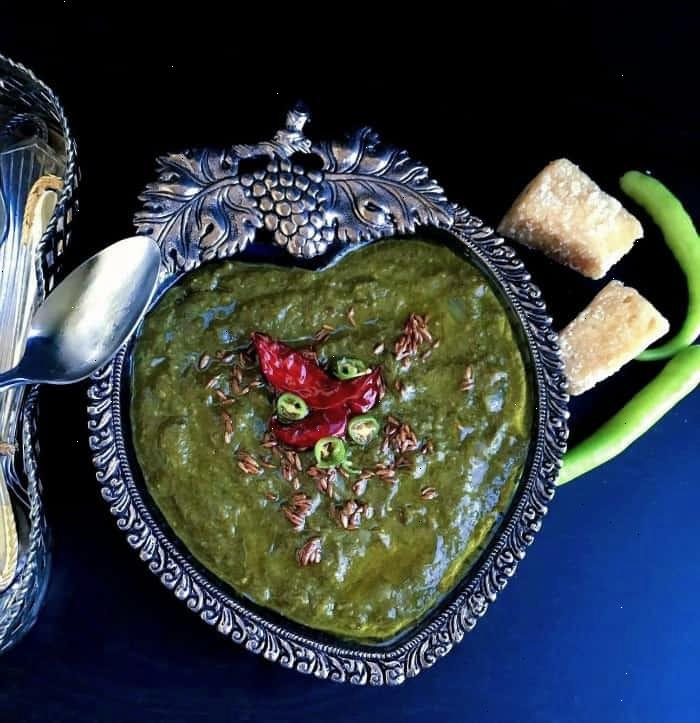saag: (127, 262, 543, 630)
